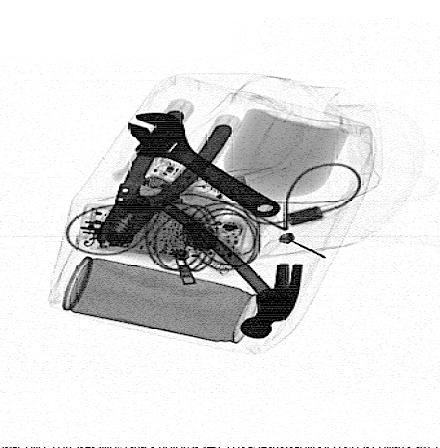Hammer: (158, 203, 303, 340)
Pliers: (97, 107, 233, 248)
Powerbank: (77, 204, 246, 267)
Wrench: (126, 113, 282, 217)
